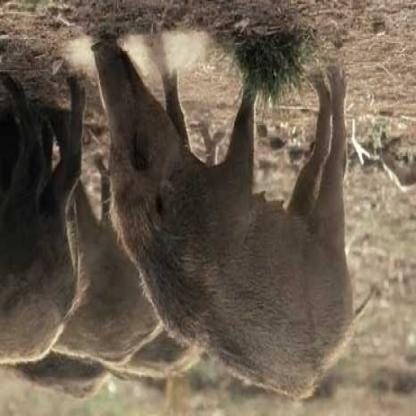boar: (63, 36, 407, 391)
